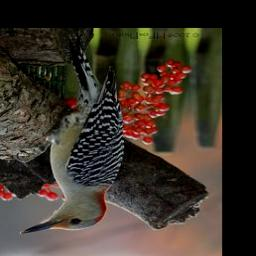Woodpecker: (13, 29, 125, 239)
